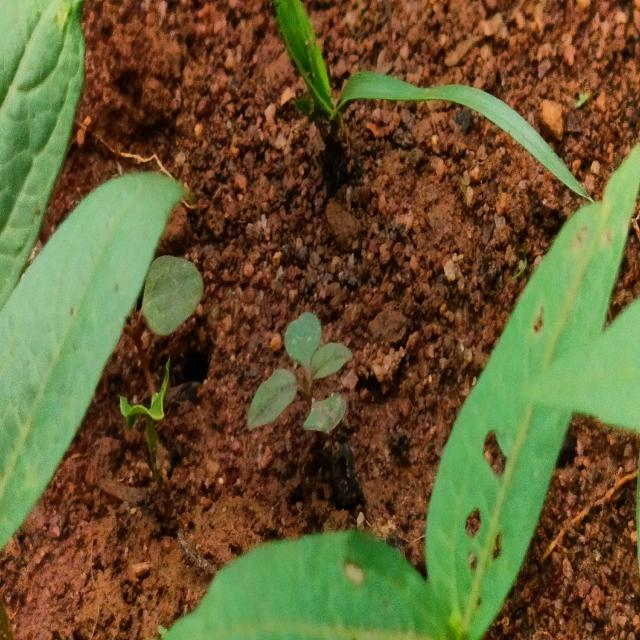Black gram_healthy: (426, 132, 640, 640), (0, 166, 187, 547)
